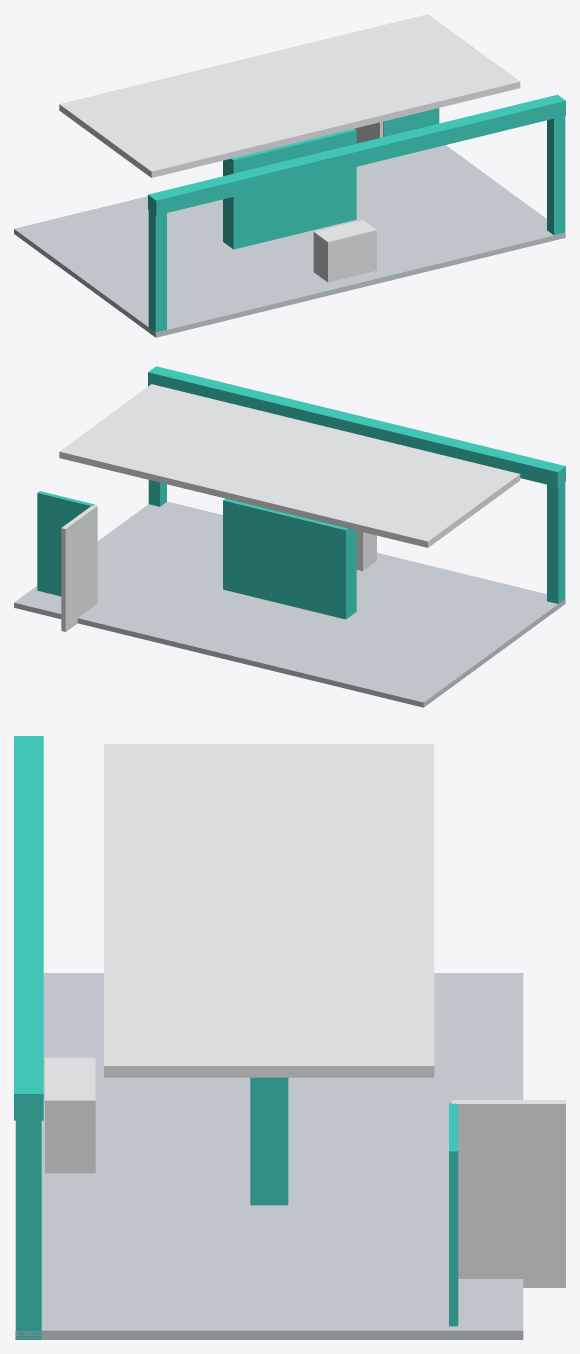
3 renders of one model, top to bottom at view 1: azimuth 30°, elevation 25°; view 2: azimuth 150°, elevation 25°; view 3: azimuth 270°, elevation 25°, orthographic. The views are drawn at different scales.
Visible parts, largest first — view 1: Exhibition Booth Concept; view 2: Exhibition Booth Concept; view 3: Exhibition Booth Concept.
Part boxes in pixels (x1,y1,x2,y2): Exhibition Booth Concept: (14, 14, 565, 337); Exhibition Booth Concept: (14, 366, 565, 707); Exhibition Booth Concept: (14, 736, 565, 1339).
Bounding box in the file's own units: 10 × 3.34 × 6.52.
